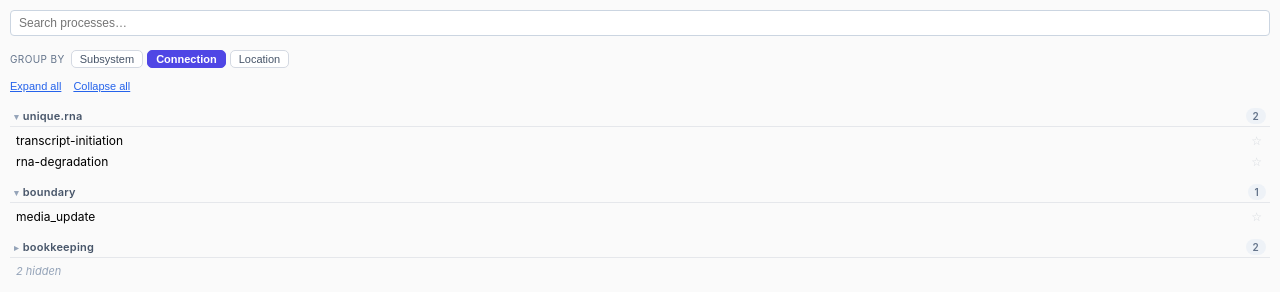
Test case: ProcessRail › searches inside a collapsed cluster
Type "listener" into the field with placeholder "Search processes…" at (640, 23), box [10,10,1270,36]
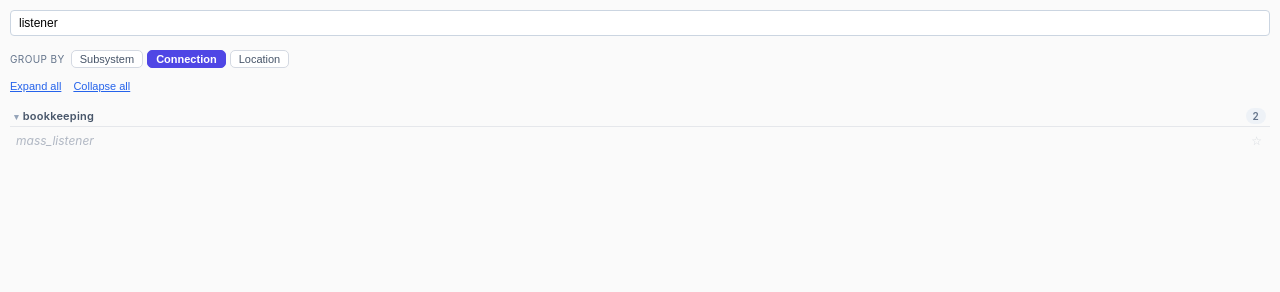
Now the text "mass_listener" is shown, box [16,133,94,148]
Now the text "transcript-initiation" is gone
